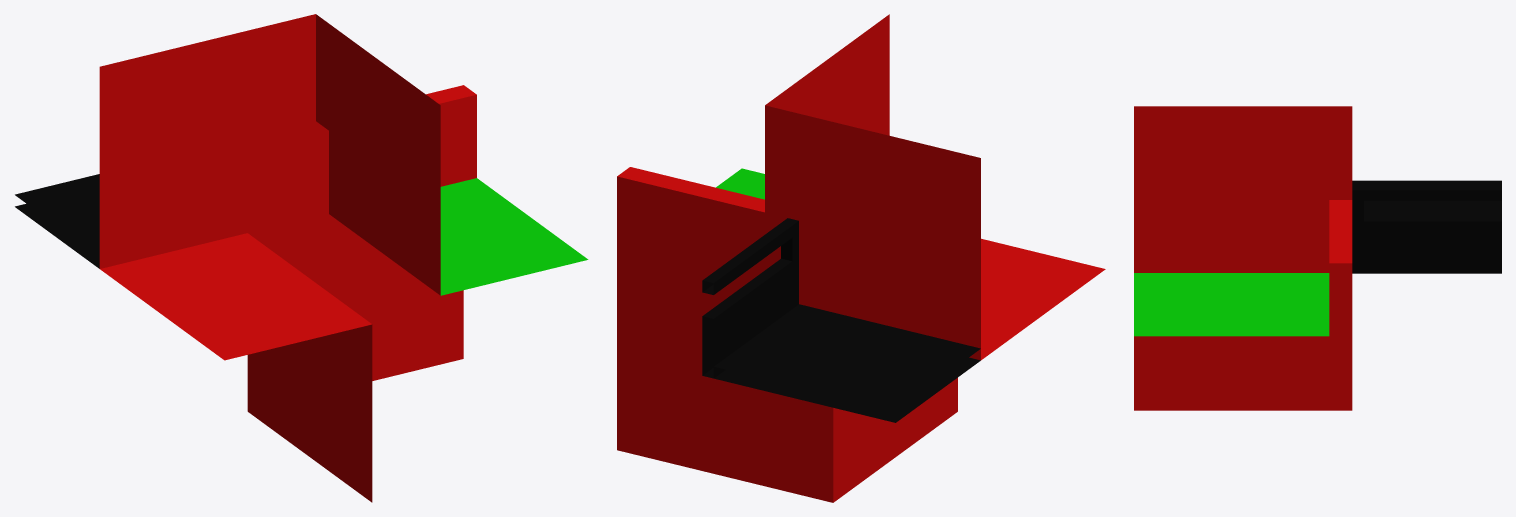
The picture shows the model from 3 angles, left to right: view 1: azimuth 30°, elevation 25°; view 2: azimuth 150°, elevation 25°; view 3: azimuth 270°, elevation 25°; orthographic projection. The views are drawn at different scales.
Parts seen in each view (by area): view 1: None_E_W_E_E_P_E_E_A_None; view 2: None_E_W_E_E_P_E_E_A_None; view 3: None_E_W_E_E_P_E_E_A_None.
Boxes of the visible parts, <box> form: None_E_W_E_E_P_E_E_A_None: <box>15,14,588,502</box>; None_E_W_E_E_P_E_E_A_None: <box>617,14,1105,502</box>; None_E_W_E_E_P_E_E_A_None: <box>1134,106,1501,410</box>.
Size of the model in its own units: 100 by 100 by 100.
